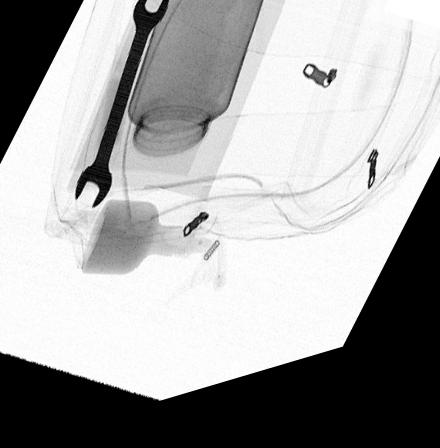Wrench: (73, 0, 170, 215)
